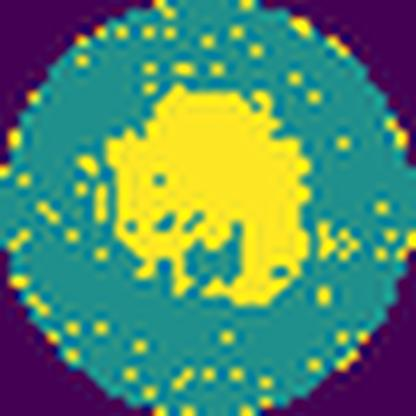Center: (101, 78, 315, 310)
